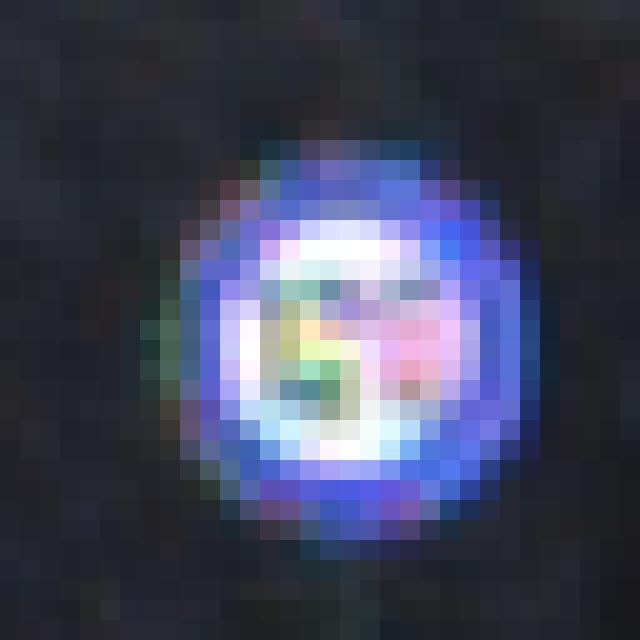SPEED LIMIT 120: (157, 165, 542, 535)
